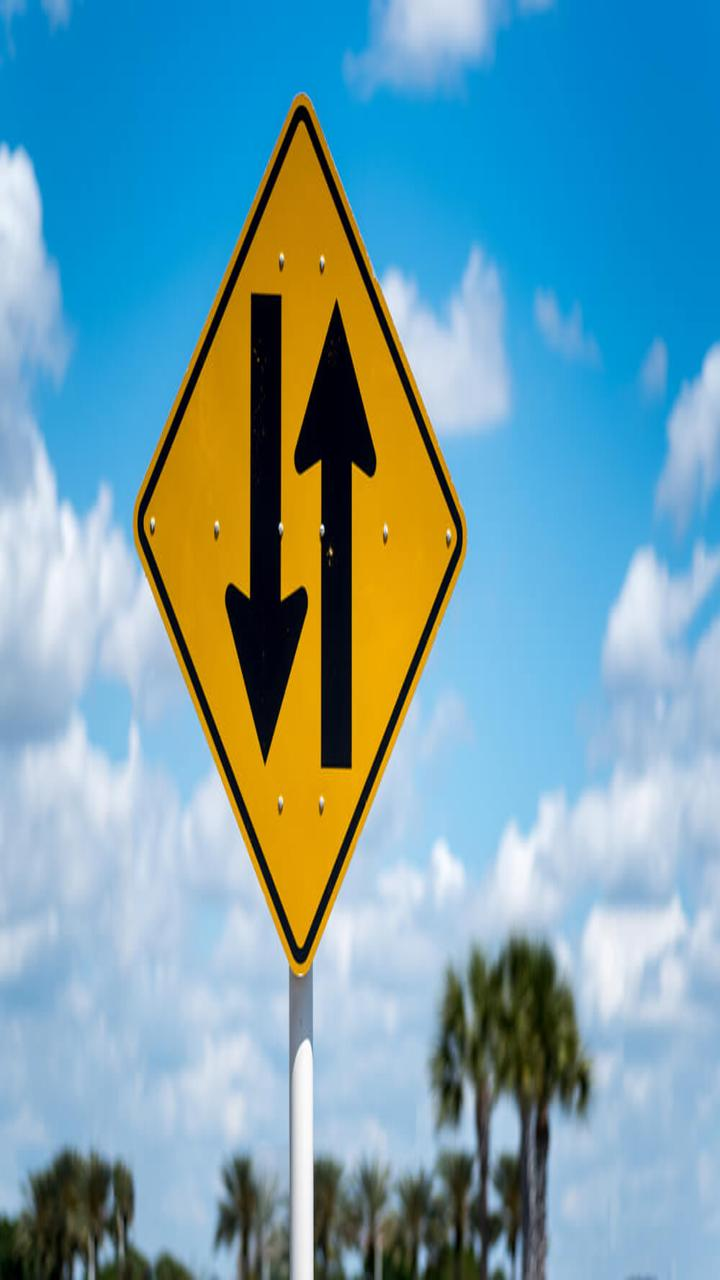Traffic sign: (75, 69, 504, 972)
